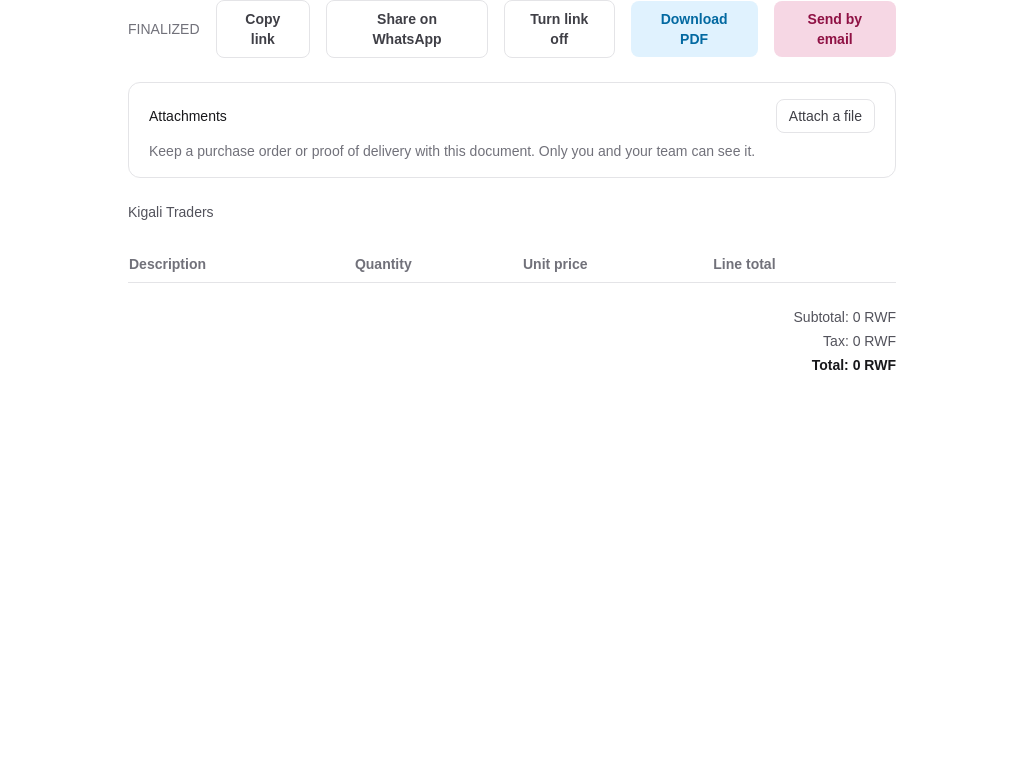
Test case: DocumentView › sends the document by email and shows a sent confirmation
Click the button "Send by email".
click(835, 29)  # box [774, 1, 896, 57]
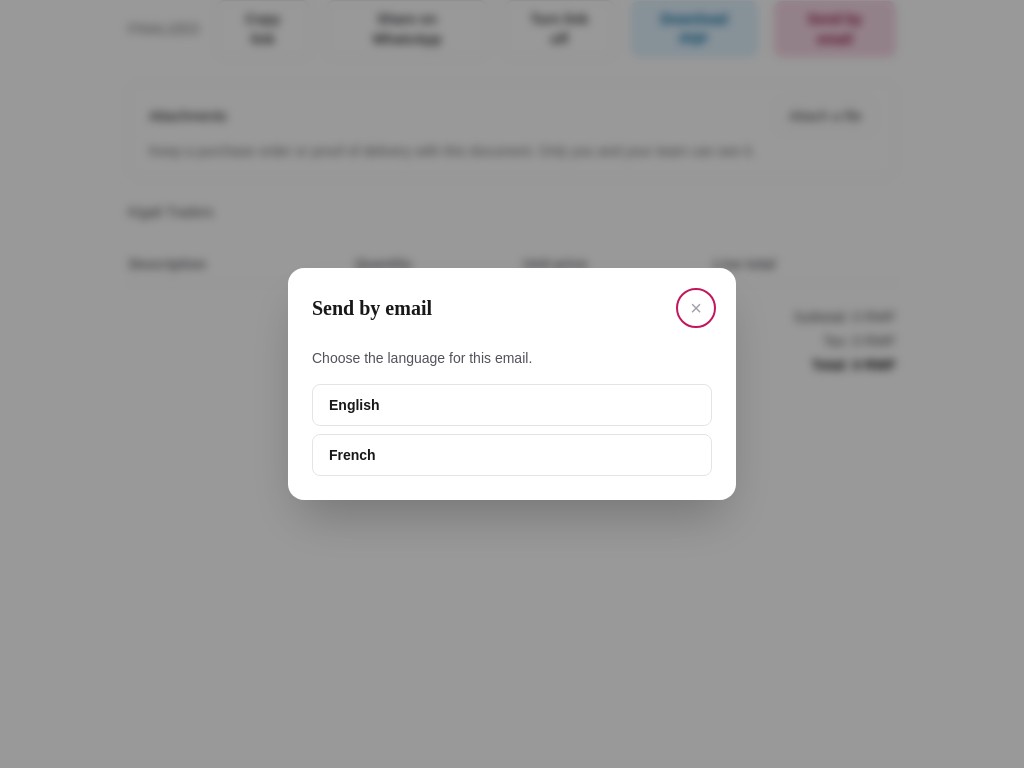
Click the button "English".
click(354, 405)  # box [312, 384, 712, 426]
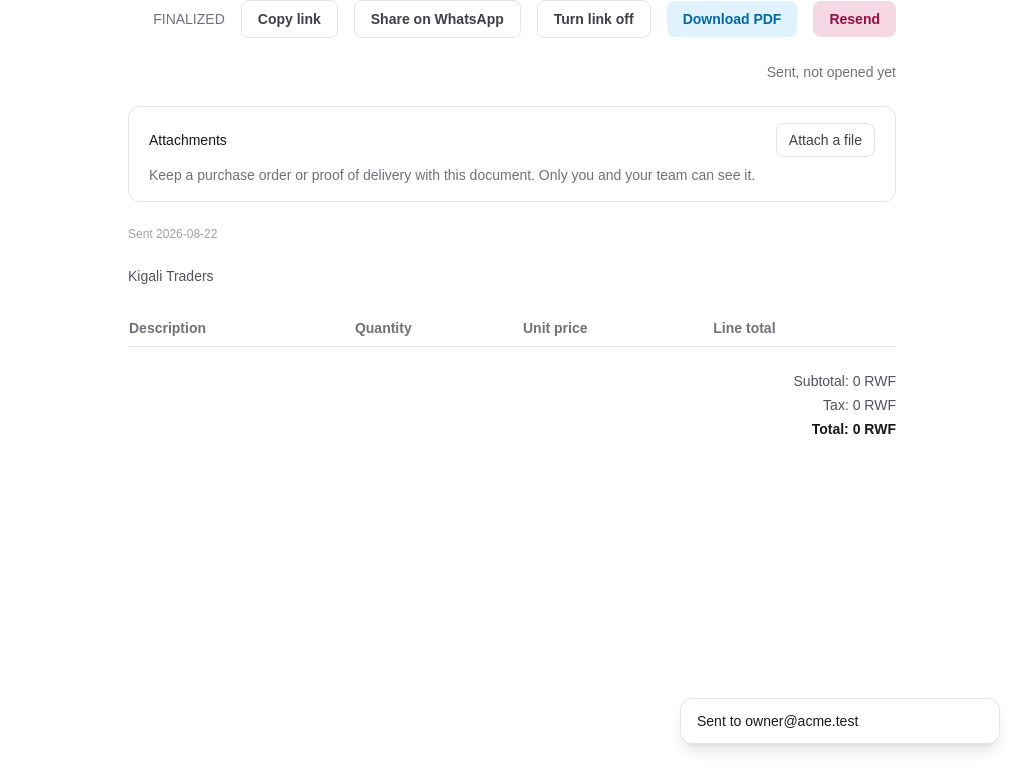
Expected: the text "Sent to owner@acme.test" is shown, [697, 713, 858, 729]
